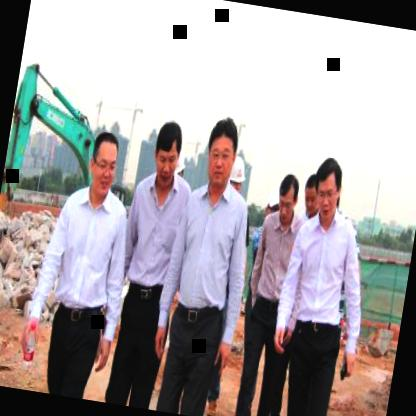head: (198, 111, 245, 193), (82, 127, 124, 200), (146, 114, 186, 190), (309, 153, 346, 224), (272, 168, 302, 222), (300, 172, 322, 216)
helmet: (221, 149, 250, 213)
